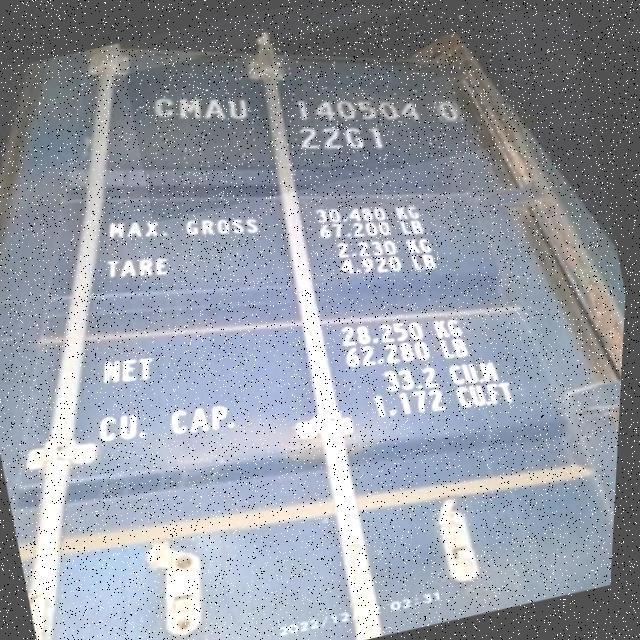container_number_h: (119, 2, 522, 227)
